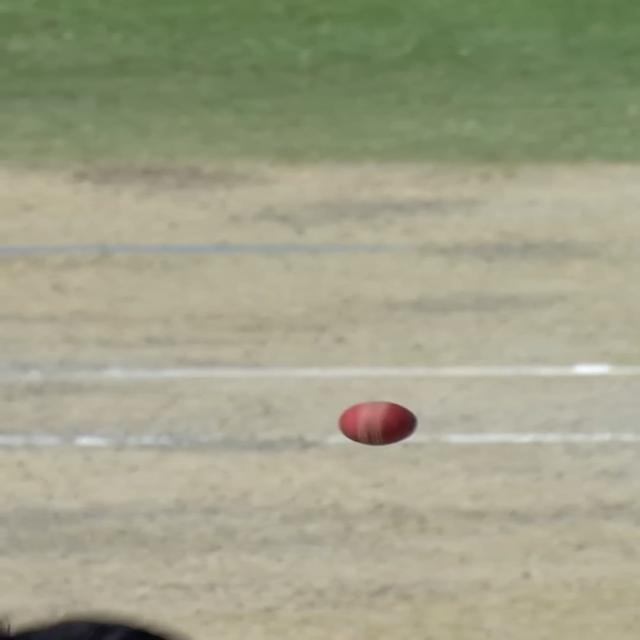Cricket ball: (333, 396, 424, 450)
